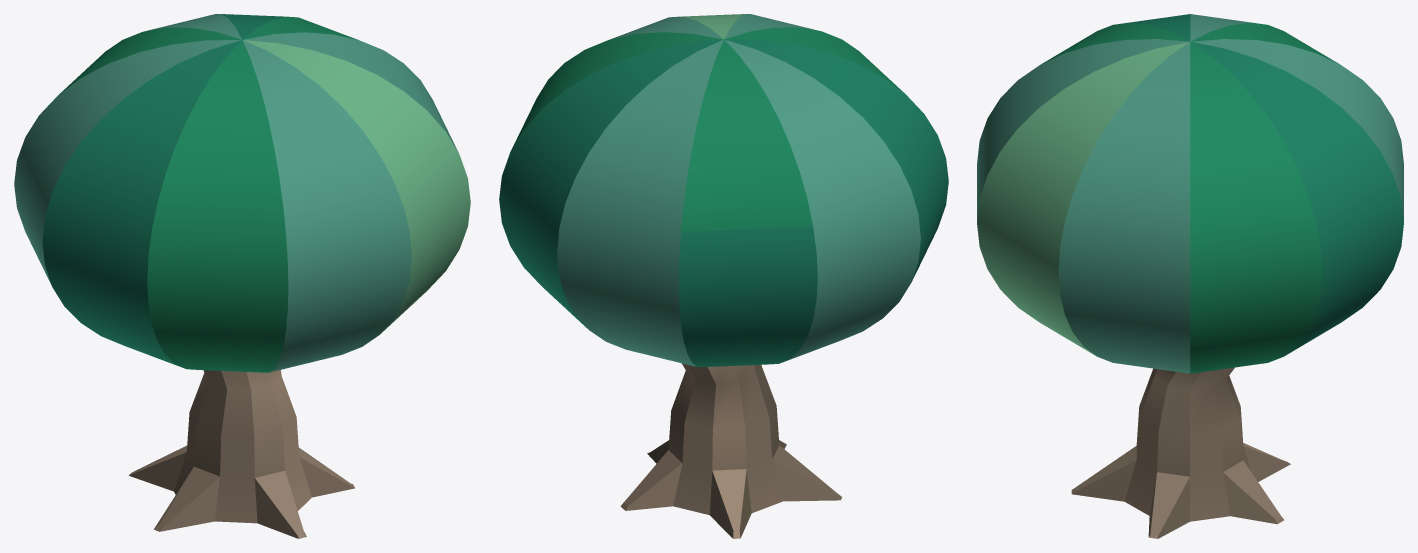
File: tree.fbx
3 renders of one model, left to right at view 1: azimuth 30°, elevation 25°; view 2: azimuth 150°, elevation 25°; view 3: azimuth 270°, elevation 25°, orthographic.
Parts seen in each view (by area): view 1: pSphere1, pCylinder1; view 2: pSphere1, pCylinder1; view 3: pSphere1, pCylinder1.
Part boxes in pixels (x1,y1,x2,y2): pSphere1: (14,14,470,372); pCylinder1: (129,370,354,538); pSphere1: (499,14,948,366); pCylinder1: (620,363,842,538); pSphere1: (977,14,1403,373); pCylinder1: (1071,367,1290,538).
Bounding box in the file's own units: 27.45 × 29.96 × 25.6.
